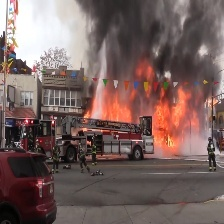fire: (83, 62, 216, 156)
